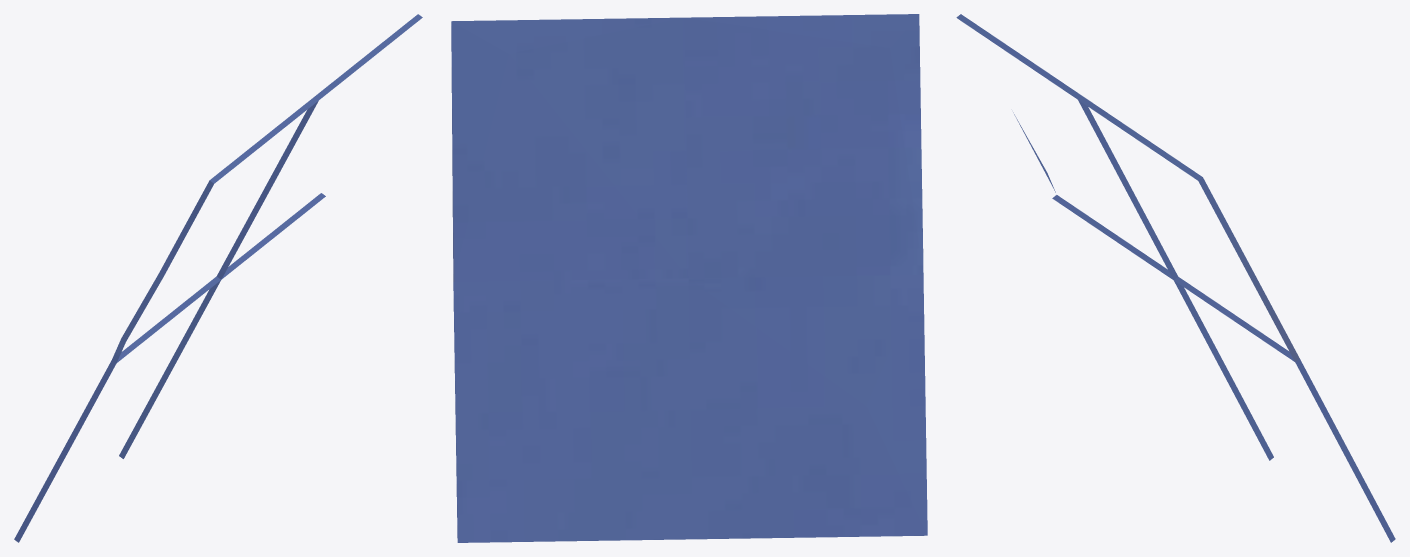
The picture shows the model from 3 angles, left to right: view 1: azimuth 30°, elevation 25°; view 2: azimuth 150°, elevation 25°; view 3: azimuth 270°, elevation 25°; orthographic projection. The views are drawn at different scales.
Bounding box in the file's own units: 19657 × 17661 × 16967.
1 material, 1 textured.
